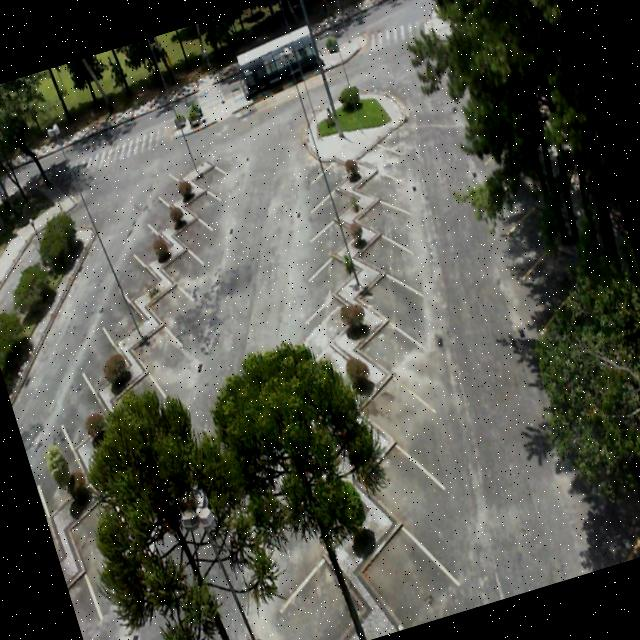empty: (345, 488, 453, 628), (353, 424, 459, 554), (254, 529, 375, 640), (350, 356, 444, 472), (352, 300, 434, 396), (344, 252, 422, 336), (41, 350, 110, 444), (59, 298, 130, 388), (282, 278, 360, 354), (120, 305, 186, 389), (82, 260, 148, 344), (347, 209, 419, 284), (294, 230, 362, 295), (140, 262, 197, 338), (348, 174, 412, 239), (286, 200, 354, 260), (148, 226, 206, 296), (106, 234, 162, 303), (350, 147, 410, 205), (300, 168, 361, 222), (120, 202, 172, 265), (354, 124, 411, 179), (167, 198, 219, 258), (173, 164, 225, 224), (145, 148, 195, 208), (295, 140, 353, 190), (135, 177, 184, 236), (186, 143, 231, 200)
